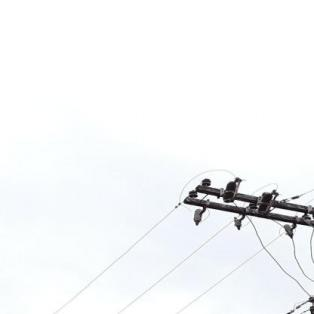Poste: (312, 196, 314, 314)
